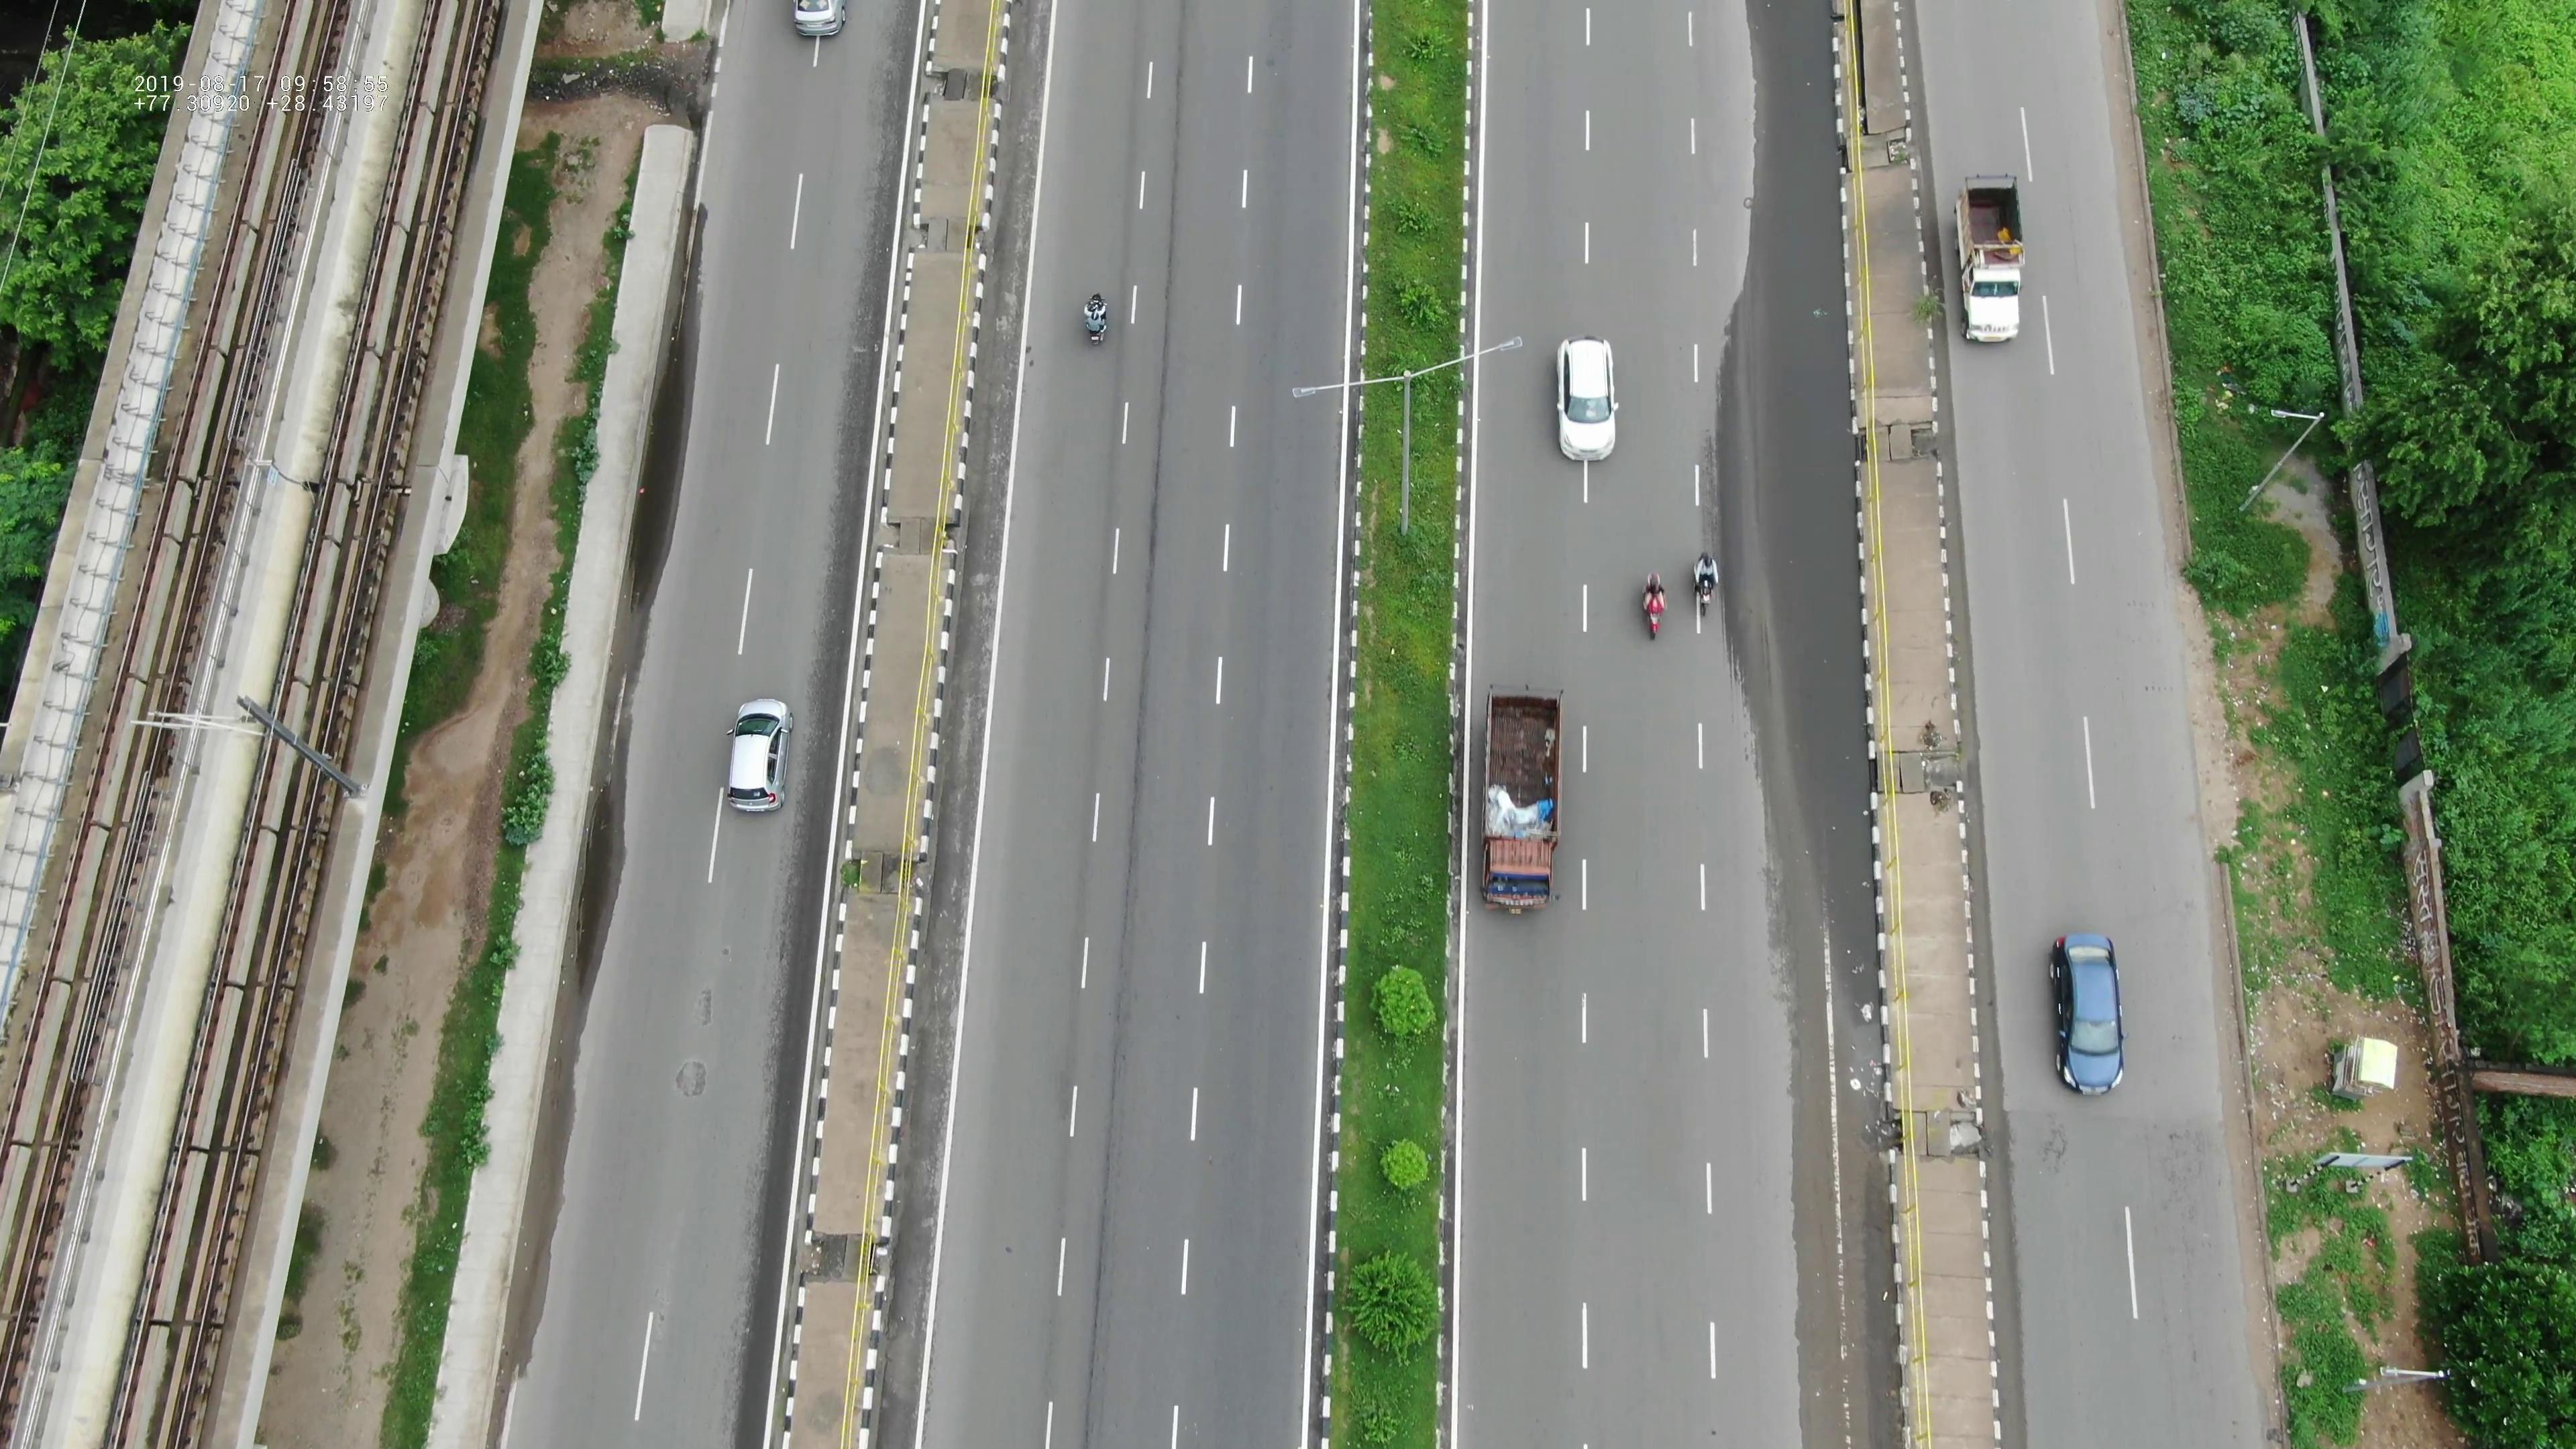Hair_cracks: (2127, 1113, 2224, 1341), (2029, 1115, 2091, 1180)
Waterlogging: (1716, 322, 1868, 936), (610, 235, 718, 589), (557, 706, 656, 1010)
